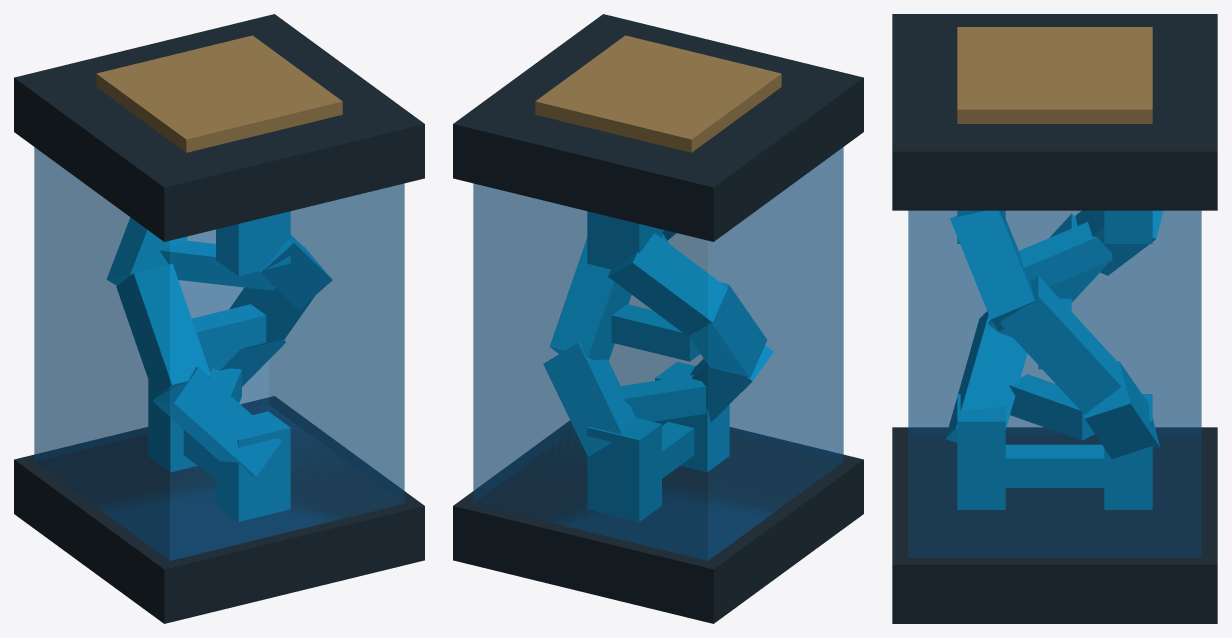
File: egg_drex.obj
3 renders of one model, left to right at view 1: azimuth 30°, elevation 25°; view 2: azimuth 150°, elevation 25°; view 3: azimuth 270°, elevation 25°, orthographic. The views are drawn at different scales.
Parts seen in each view (by area): view 1: egg_drex; view 2: egg_drex; view 3: egg_drex.
Boxes of the visible parts, x1,y1,x2,y2 form: egg_drex: [14, 14, 424, 623]; egg_drex: [453, 14, 863, 623]; egg_drex: [892, 14, 1217, 623].
Size of the model in its own units: 4.31 by 7.1 by 4.3.
